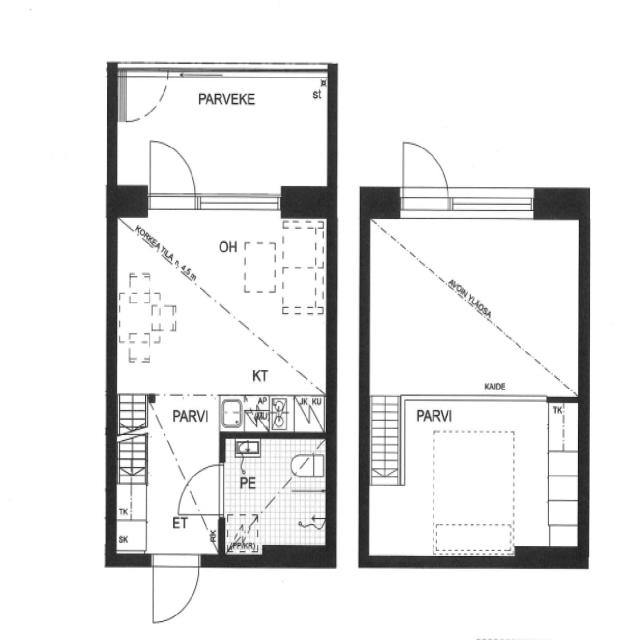door: (142, 136, 203, 214), (146, 551, 206, 629), (394, 139, 451, 213), (176, 460, 227, 521), (124, 67, 170, 124)
window: (421, 181, 546, 225), (196, 180, 291, 216)
zone: (114, 207, 327, 429), (369, 207, 574, 393), (487, 213, 585, 398), (220, 436, 332, 558)
